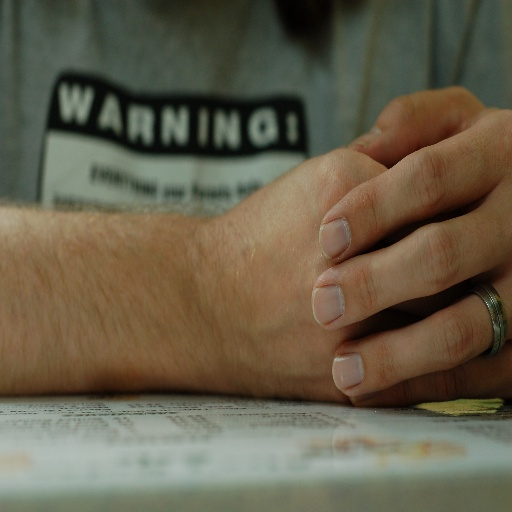hand: (213, 145, 511, 403)
